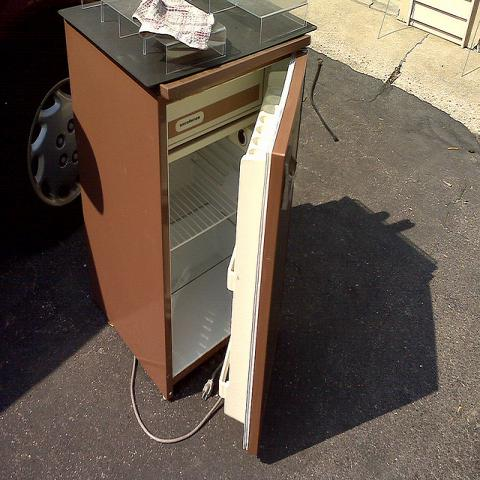car: (0, 1, 86, 269)
